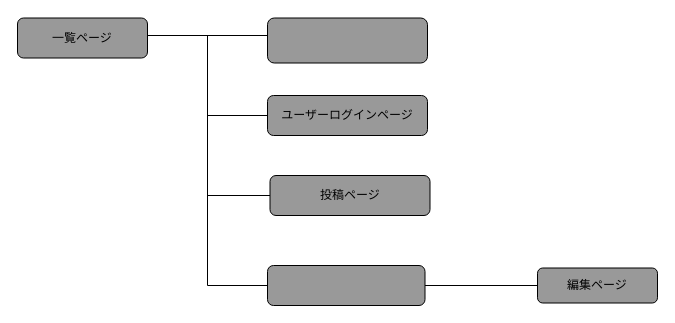
This 675x323 diagram has some shape labels left out. Each missing label, with the centre of its shape:
ユーザー新規登録ページ: pixel 347 40
詳細ページ: pixel 345 285
